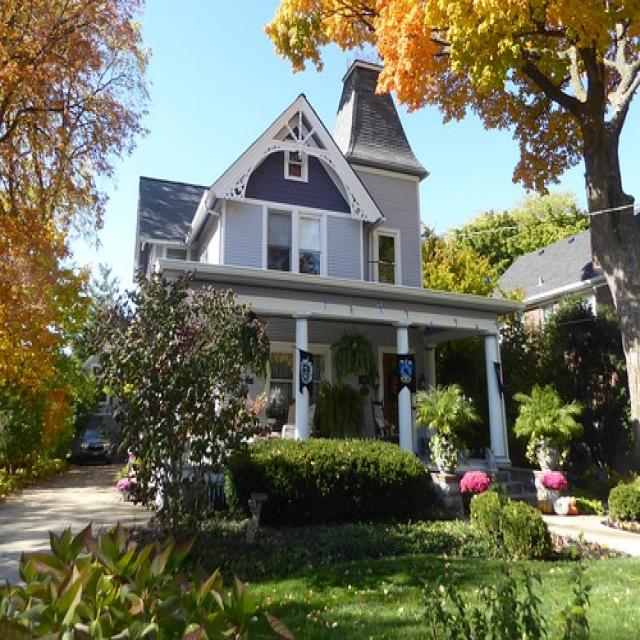Normal_building: (130, 54, 525, 518)
